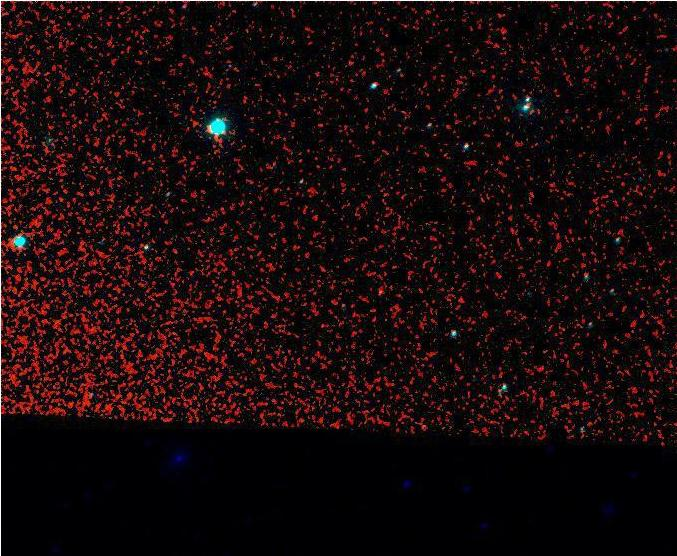star: (160, 239, 190, 269)
